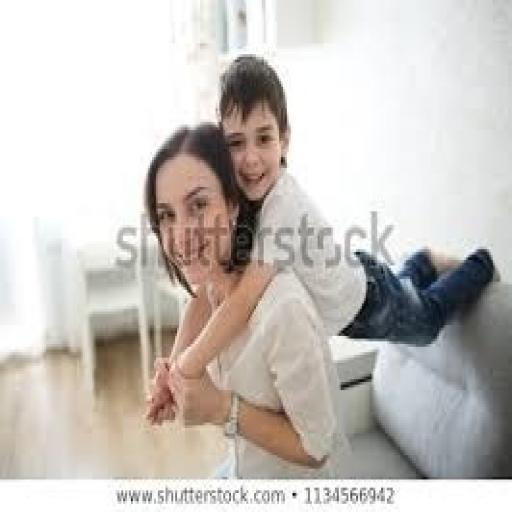hugging: (138, 51, 502, 477), (141, 119, 352, 480)
